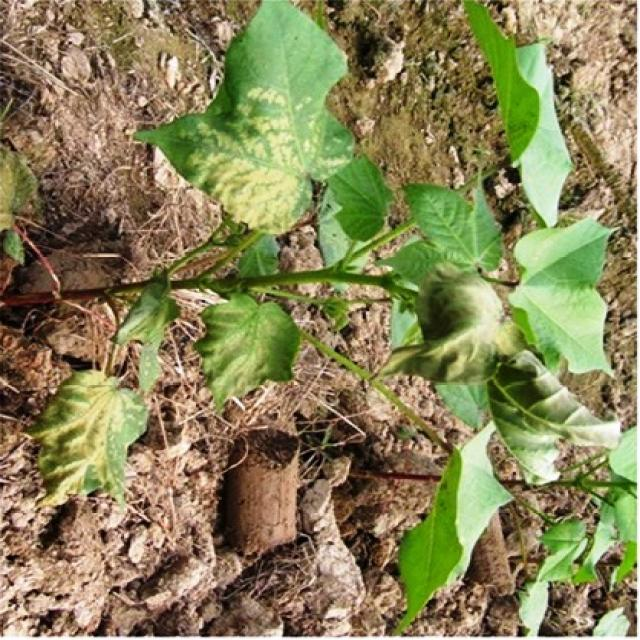Fusarium Wilt: (17, 10, 579, 640)
